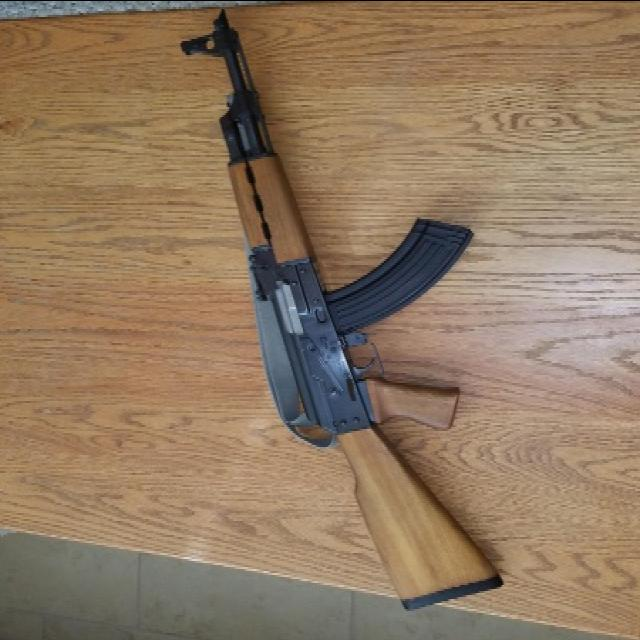rifle: (179, 7, 507, 623)
